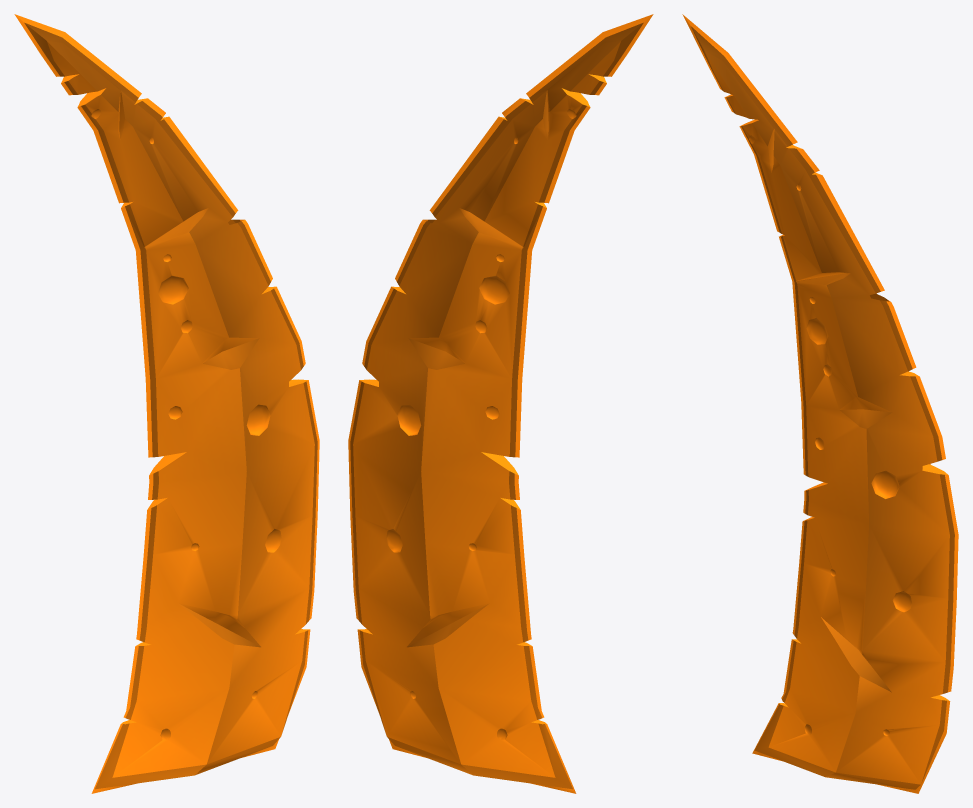
The model's file is bronze_blade_bubbles_033.glb.
The picture shows the model from 3 angles, left to right: view 1: azimuth 30°, elevation 25°; view 2: azimuth 150°, elevation 25°; view 3: azimuth 330°, elevation 25°; orthographic projection. The views are drawn at different scales.
Visible parts, largest first — view 1: bronze_blade_bubbles.033; view 2: bronze_blade_bubbles.033; view 3: bronze_blade_bubbles.033.
Boxes of the visible parts, left/top/right/bottom form: bronze_blade_bubbles.033: left=14, top=14, right=319, bottom=793; bronze_blade_bubbles.033: left=348, top=14, right=653, bottom=793; bronze_blade_bubbles.033: left=682, top=14, right=958, bottom=793.
Bounding box in the file's own units: 4.91 × 12.29 × 0.7262.
Materials: 1 (1 with a texture image).
